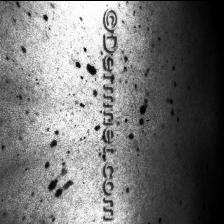Potentially Malignant Skin Tumors: (120, 51, 180, 168), (0, 0, 62, 101), (39, 128, 77, 212), (72, 48, 100, 114)
